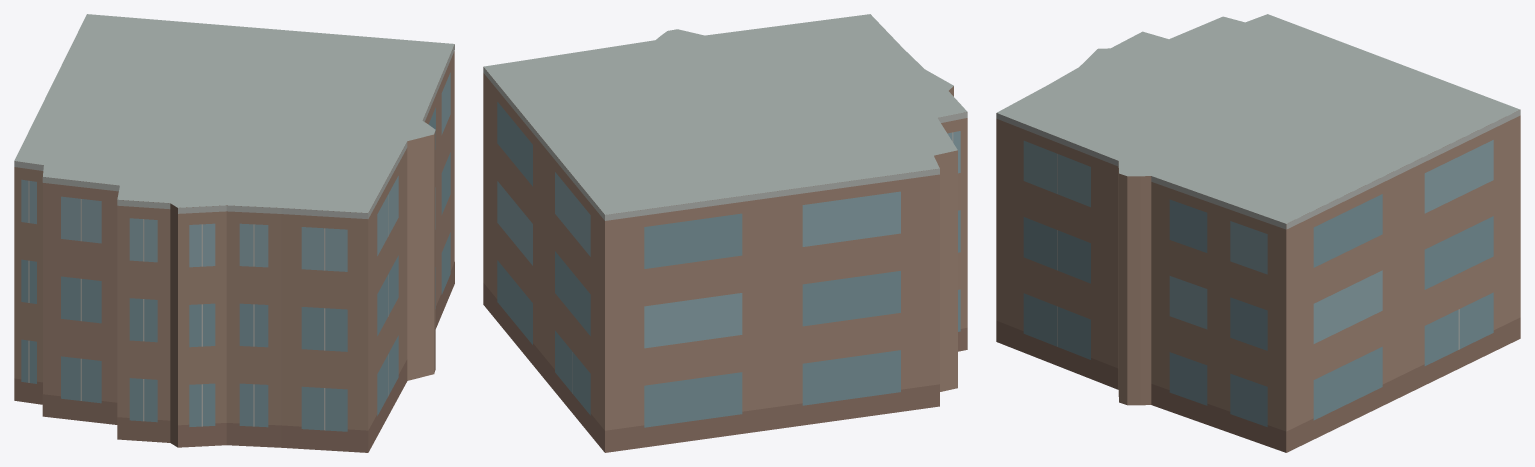
The model's file is survey-upis-32813295.glb.
The picture shows the model from 3 angles, left to right: view 1: azimuth 30°, elevation 25°; view 2: azimuth 150°, elevation 25°; view 3: azimuth 270°, elevation 25°; orthographic projection. The views are drawn at different scales.
Parts seen in each view (by area): view 1: survey-upis-32813295.tmp; view 2: survey-upis-32813295.tmp; view 3: survey-upis-32813295.tmp.
Part boxes in pixels (left/top/right/bottom): survey-upis-32813295.tmp: left=14, top=14, right=454, bottom=452; survey-upis-32813295.tmp: left=483, top=14, right=967, bottom=452; survey-upis-32813295.tmp: left=996, top=14, right=1520, bottom=452.
Size of the model in its own units: 19.07 by 9.7 by 20.13.
